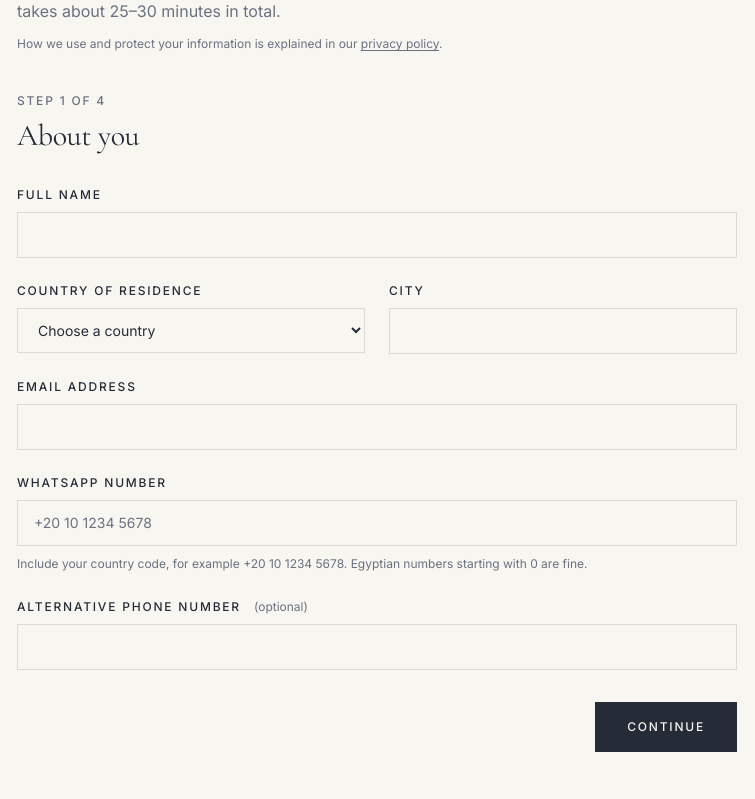
Test: enrollment funnel › shows required-field errors beside fields and disables Continue until fixed
The width and height of the screenshot is (755, 799).
(page scrolled)
Click the button "Continue" at point(666, 727), box [595,702,737,752]
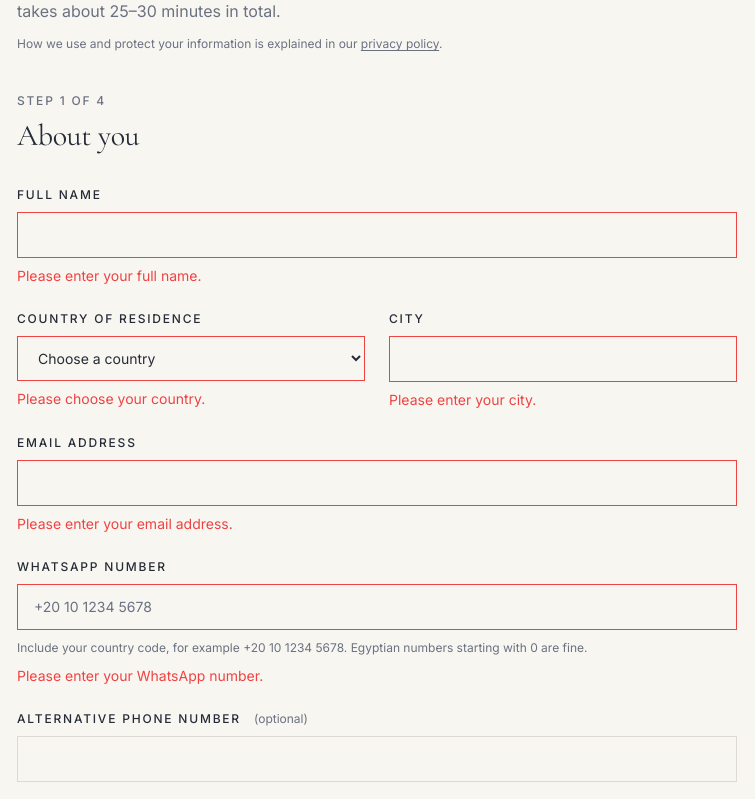
Check: the text "Please enter your full name." is shown, box [17,267,202,284]
Check: the text "Please enter your WhatsApp number." is shown, box [17,667,263,684]
Type "bad" into the field labelled "Email address" at point(377, 483), box [17,460,737,506]
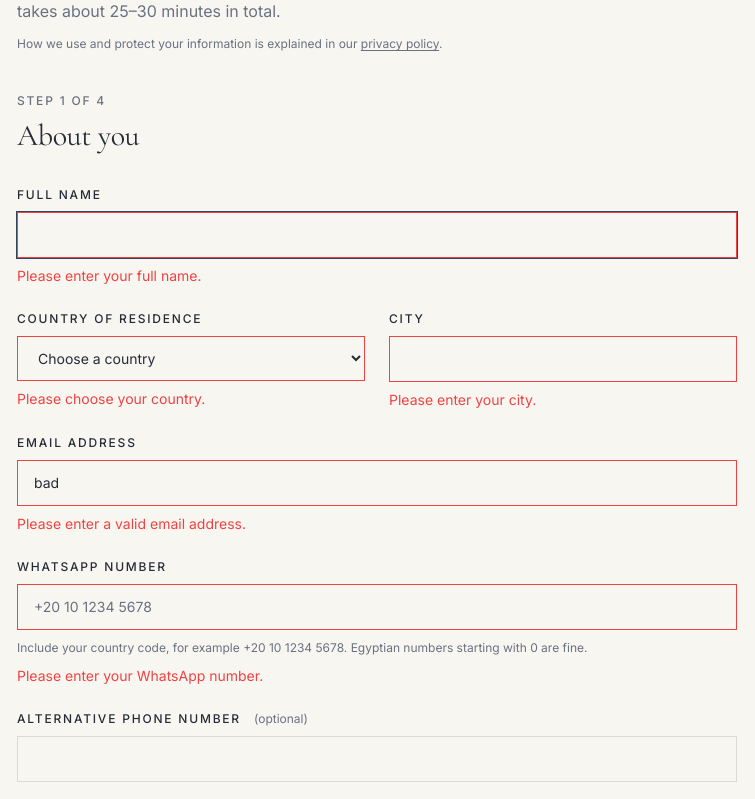
Check: the text "Please enter a valid email address." is shown, box [17,515,246,532]
